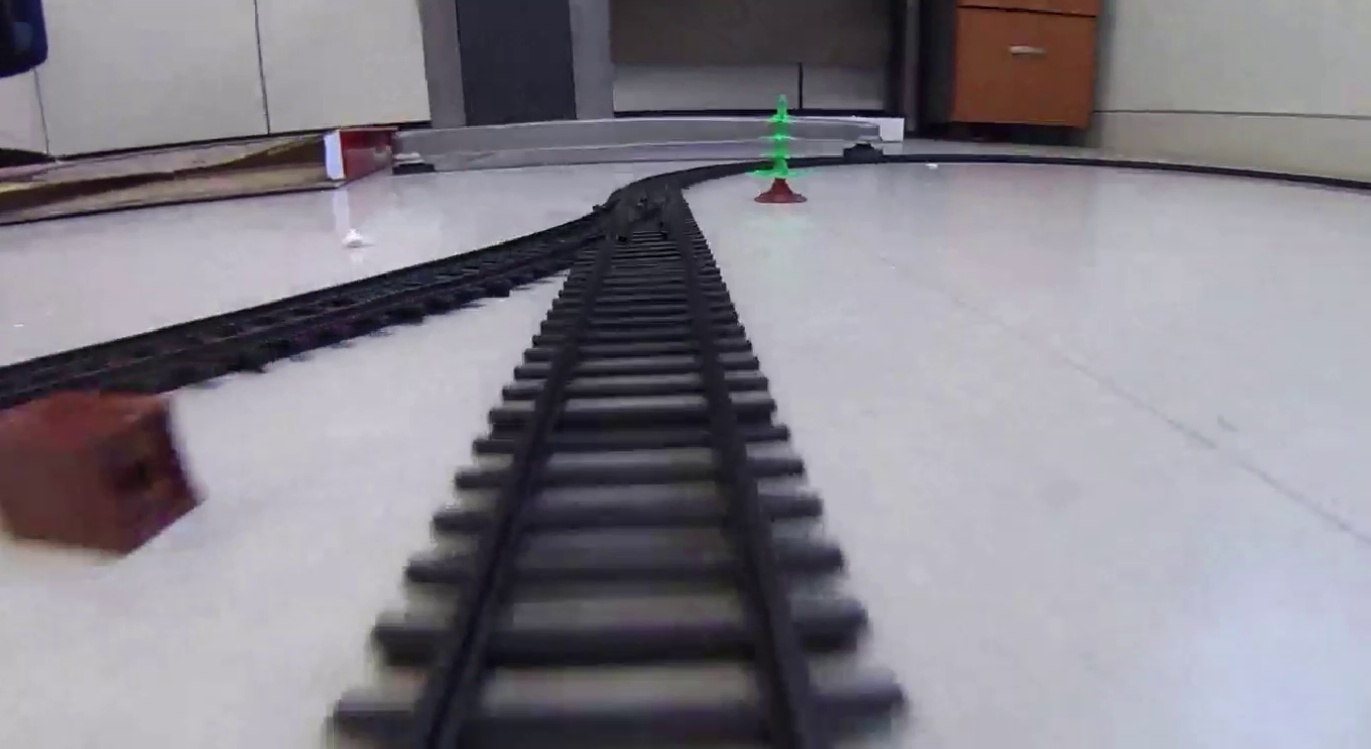box: (1, 392, 202, 556)
tree: (744, 95, 812, 201)
